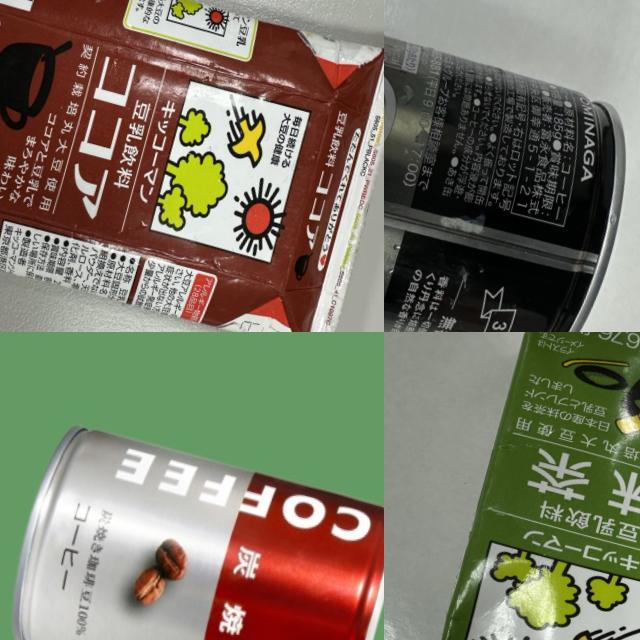Aluminium Foil: (0, 0, 384, 332), (425, 332, 640, 640)
Can: (0, 400, 384, 640), (384, 0, 640, 332)
